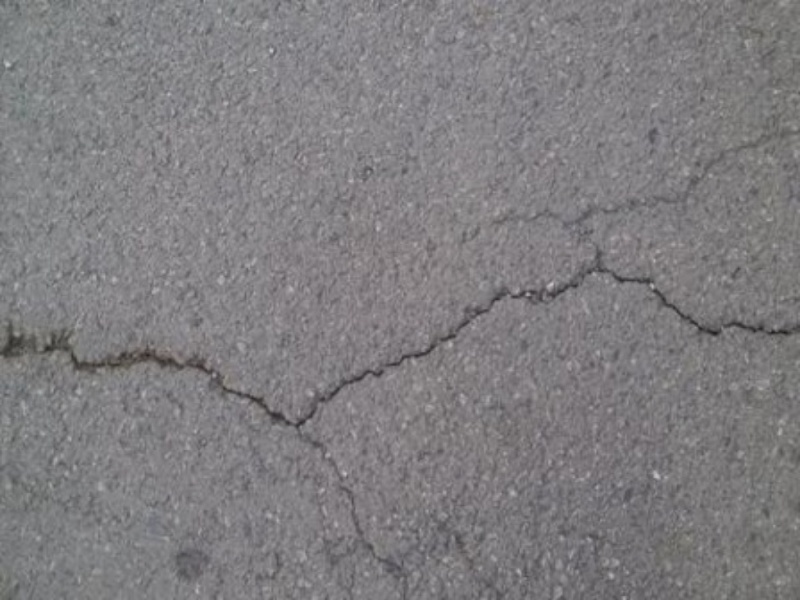crack: (9, 273, 800, 427), (498, 130, 800, 218), (299, 431, 412, 587)
